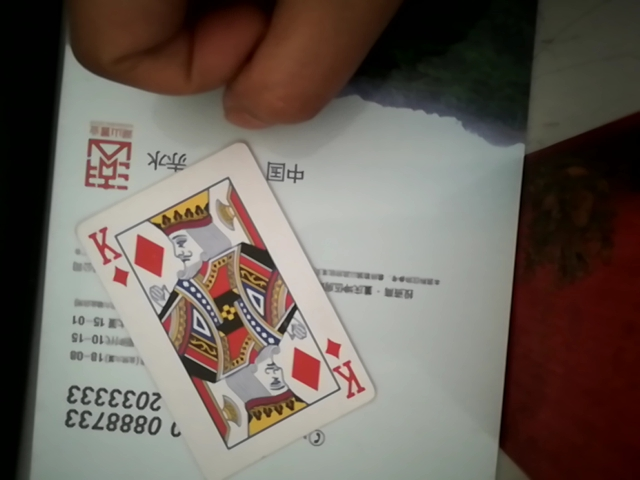fk k: (62, 139, 384, 475)
